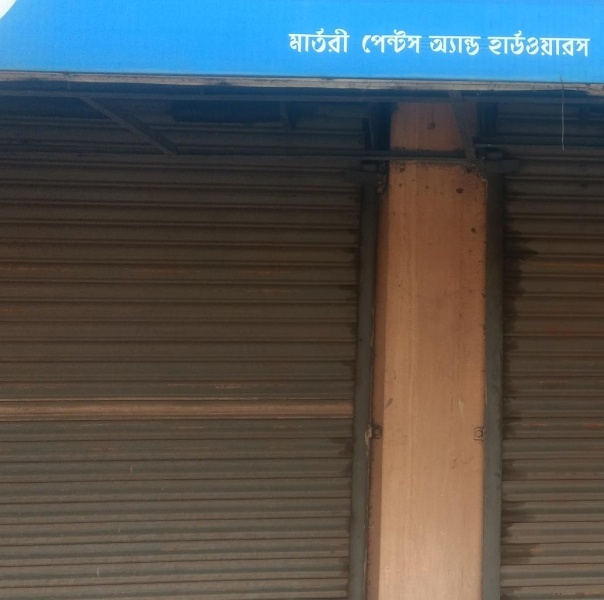text: (497, 29, 512, 58), (513, 29, 528, 58), (529, 29, 544, 58), (545, 29, 560, 58), (561, 29, 576, 58), (577, 29, 592, 58), (305, 26, 320, 54), (321, 26, 336, 54), (290, 26, 304, 54), (369, 29, 384, 55), (385, 29, 400, 55), (401, 29, 416, 55), (337, 26, 350, 54), (433, 36, 448, 58), (449, 36, 464, 58), (465, 36, 480, 58), (489, 29, 496, 58), (417, 29, 423, 55), (363, 29, 368, 55), (429, 36, 432, 58), (481, 36, 482, 58)
